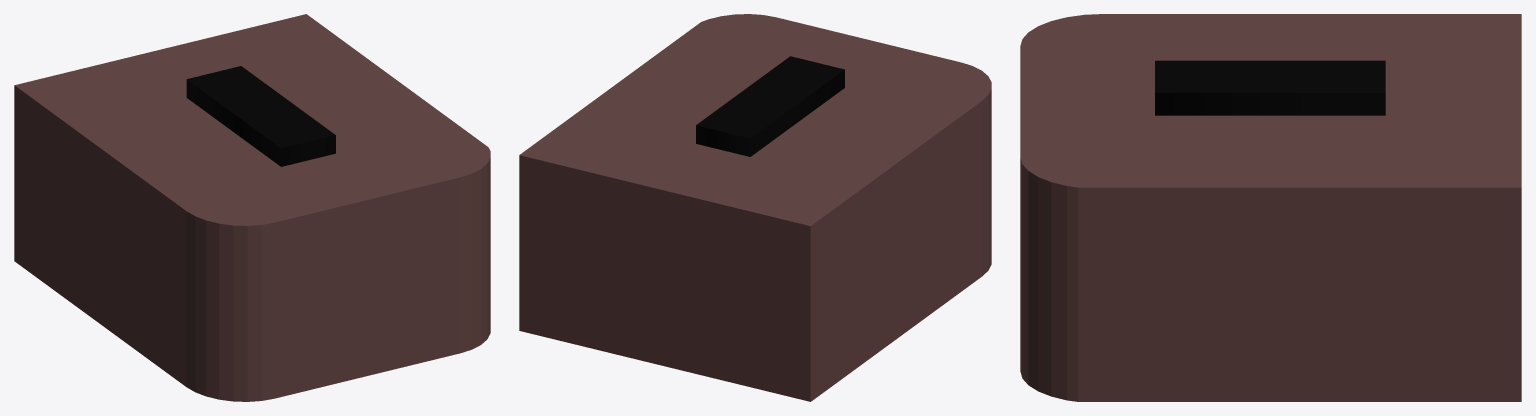
The model's file is QuantityMinus.glb.
The picture shows the model from 3 angles, left to right: view 1: azimuth 30°, elevation 25°; view 2: azimuth 150°, elevation 25°; view 3: azimuth 270°, elevation 25°; orthographic projection. The views are drawn at different scales.
Parts seen in each view (by area): view 1: Cube.001, Text.001; view 2: Cube.001, Text.001; view 3: Cube.001, Text.001.
Boxes of the visible parts, <box> form: Cube.001: <box>14,14,490,401</box>; Text.001: <box>186,66,335,166</box>; Cube.001: <box>519,14,991,401</box>; Text.001: <box>696,56,844,156</box>; Cube.001: <box>1020,14,1521,401</box>; Text.001: <box>1155,60,1385,115</box>.
Size of the model in its own units: 0.4613 by 0.2937 by 0.5631.
